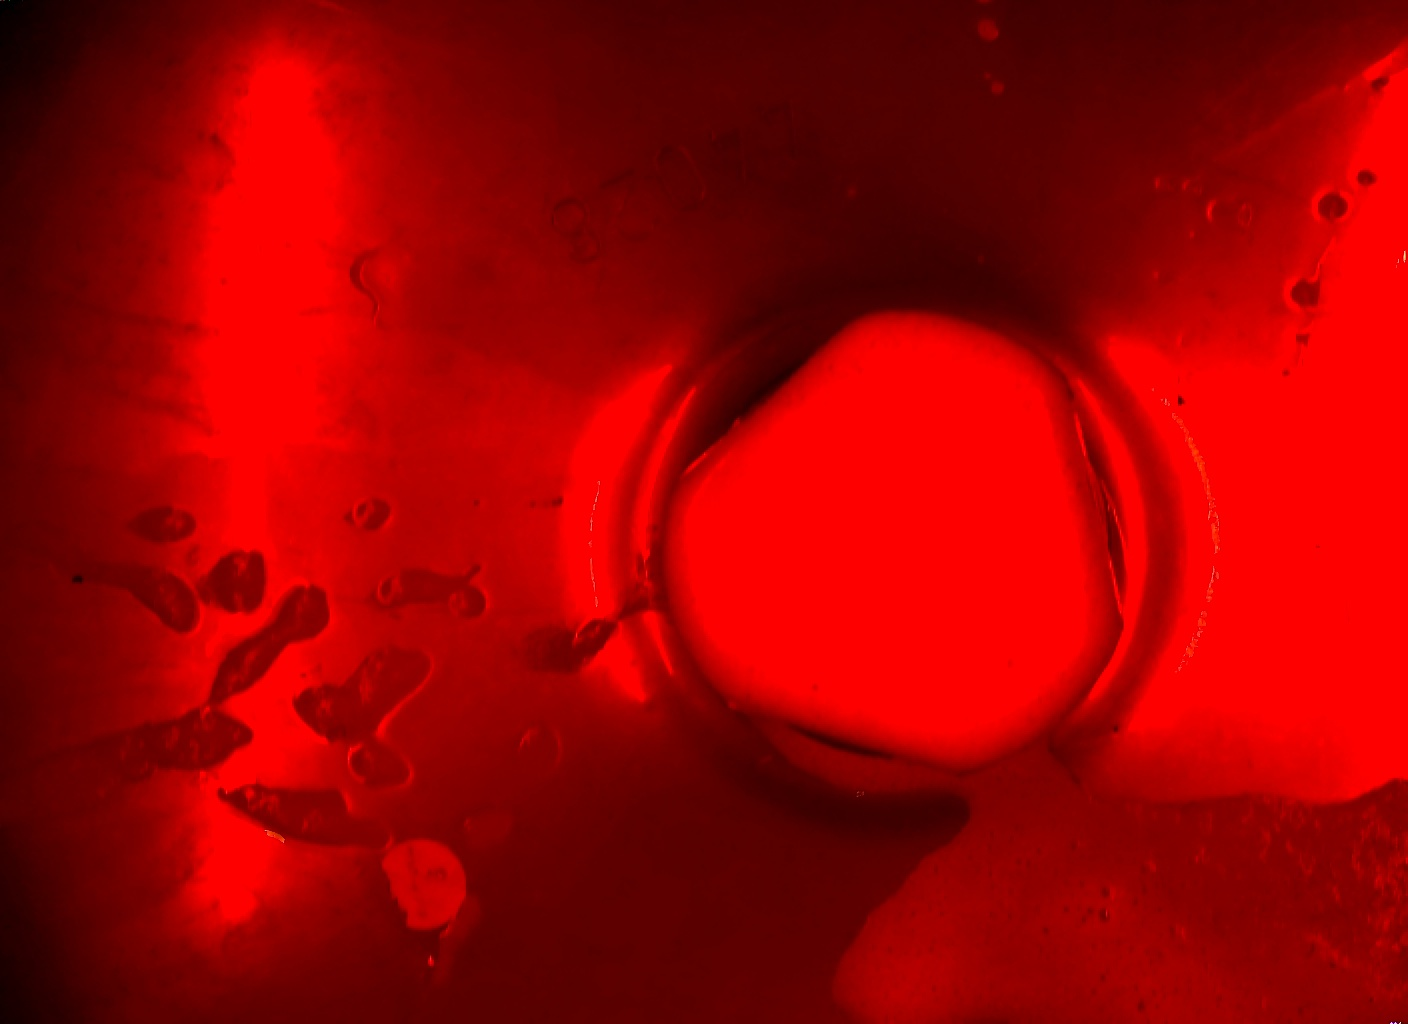pena: (799, 795, 1404, 1017), (286, 647, 435, 791), (191, 582, 336, 715), (520, 570, 662, 687), (208, 776, 395, 860), (361, 557, 490, 634)
shapka: (664, 309, 1136, 778)
